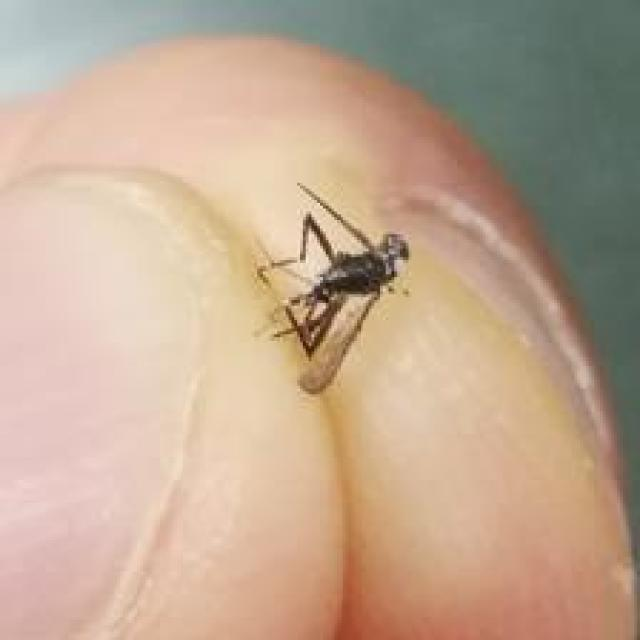Aedes albopictus: (252, 181, 412, 396)
